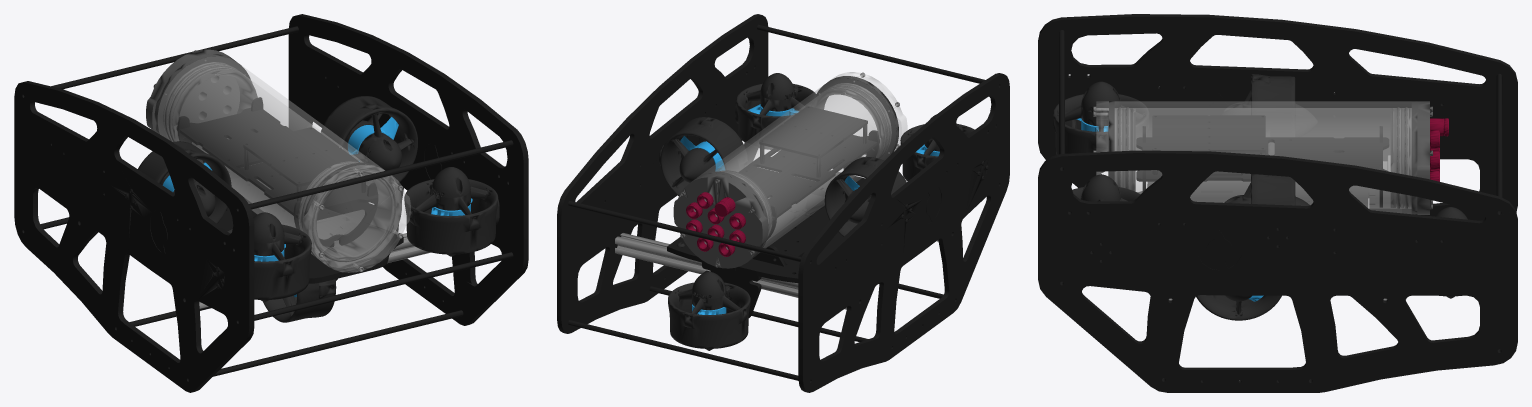
File: BLUEROV1.glb
3 renders of one model, left to right at view 1: azimuth 30°, elevation 25°; view 2: azimuth 150°, elevation 25°; view 3: azimuth 270°, elevation 25°, orthographic. The views are drawn at different scales.
Visible parts, largest first — view 1: BROV-R1.013; view 2: BROV-R1.013; view 3: BROV-R1.013.
Boxes of the visible parts, x1,y1,x2,y2 form: BROV-R1.013: [14, 14, 528, 392]; BROV-R1.013: [557, 14, 1009, 392]; BROV-R1.013: [1038, 14, 1517, 392].
Size of the model in its own units: 0.2828 by 0.2264 by 0.4102.
